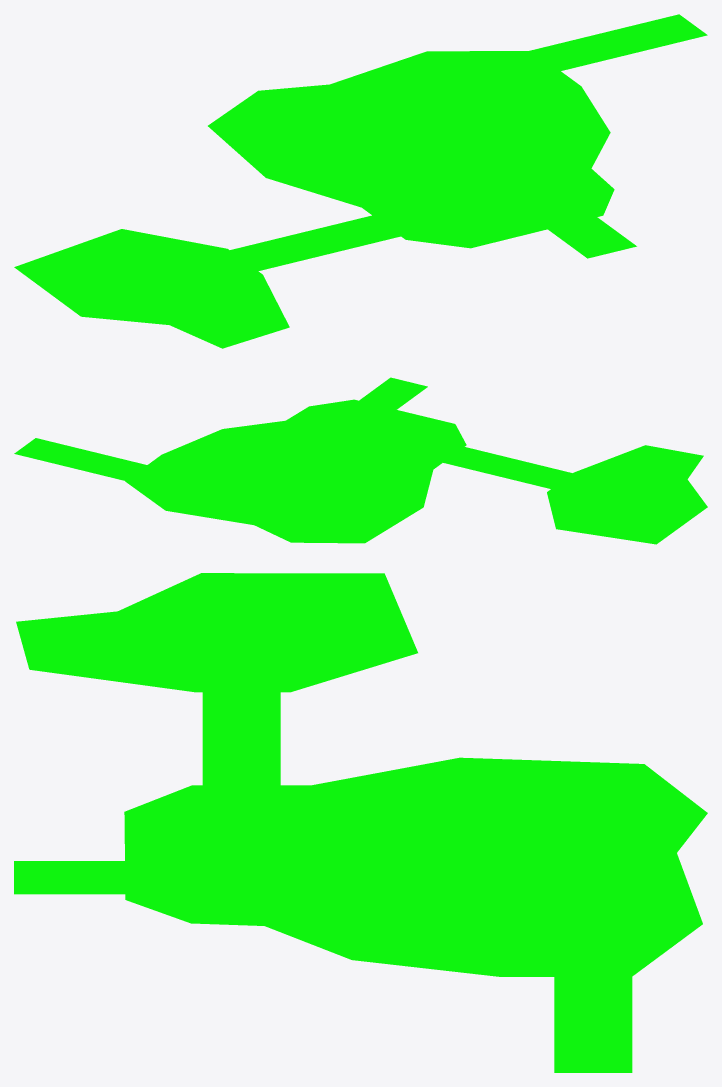
Rendered from s05b_td1-floor.glb.
3 renders of one model, top to bottom at view 1: azimuth 30°, elevation 25°; view 2: azimuth 150°, elevation 25°; view 3: azimuth 270°, elevation 25°, orthographic. The views are drawn at different scales.
Parts seen in each view (by area): view 1: collision_floor-colonly; view 2: collision_floor-colonly; view 3: collision_floor-colonly.
Boxes of the visible parts, x1,y1,x2,y2 form: collision_floor-colonly: [14, 14, 707, 348]; collision_floor-colonly: [14, 377, 707, 544]; collision_floor-colonly: [14, 573, 707, 1072].
Bounding box in the file's own units: 91.26 × 0.1992 × 53.3.
